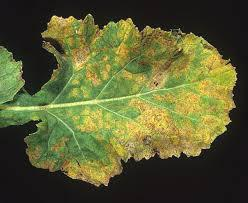Bok-Choy-Diseased: (59, 16, 224, 171)
